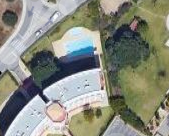pool: (65, 43, 94, 55)
